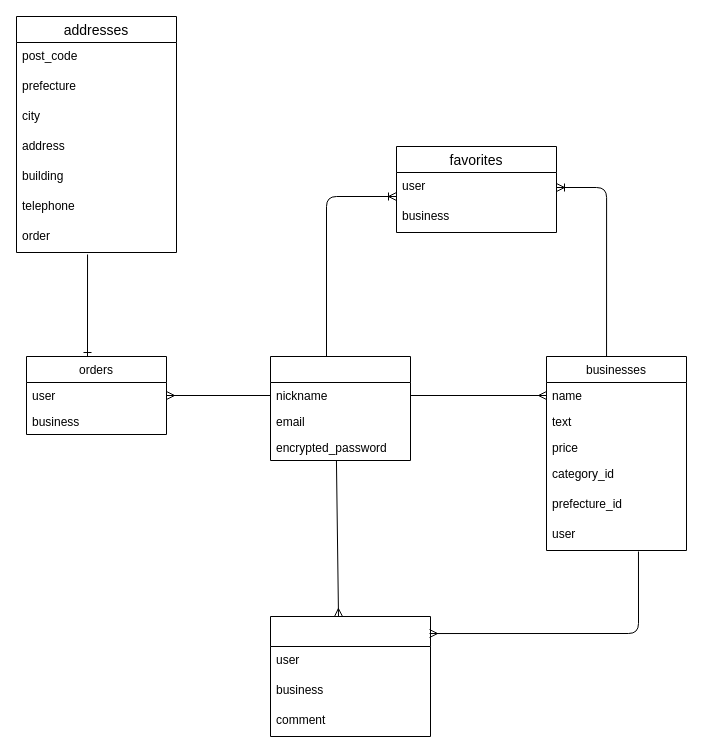
This 703x753 diagram has some shape labels left out. The box of each missing label's shape, as (x1, y1, x2, y2) in pixels:
comments: (270, 616, 430, 736)
users: (270, 356, 410, 460)
